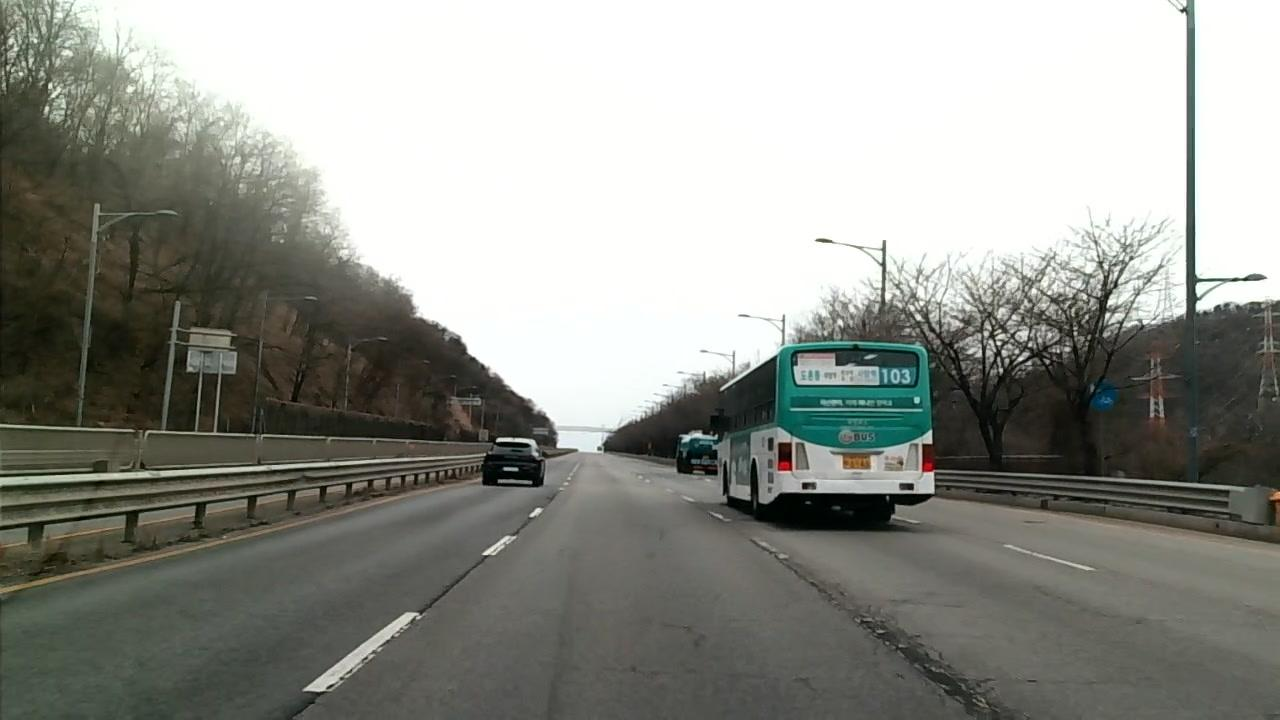erosion: (850, 608, 1005, 720)
vcrack: (282, 487, 558, 720), (747, 535, 846, 600)
